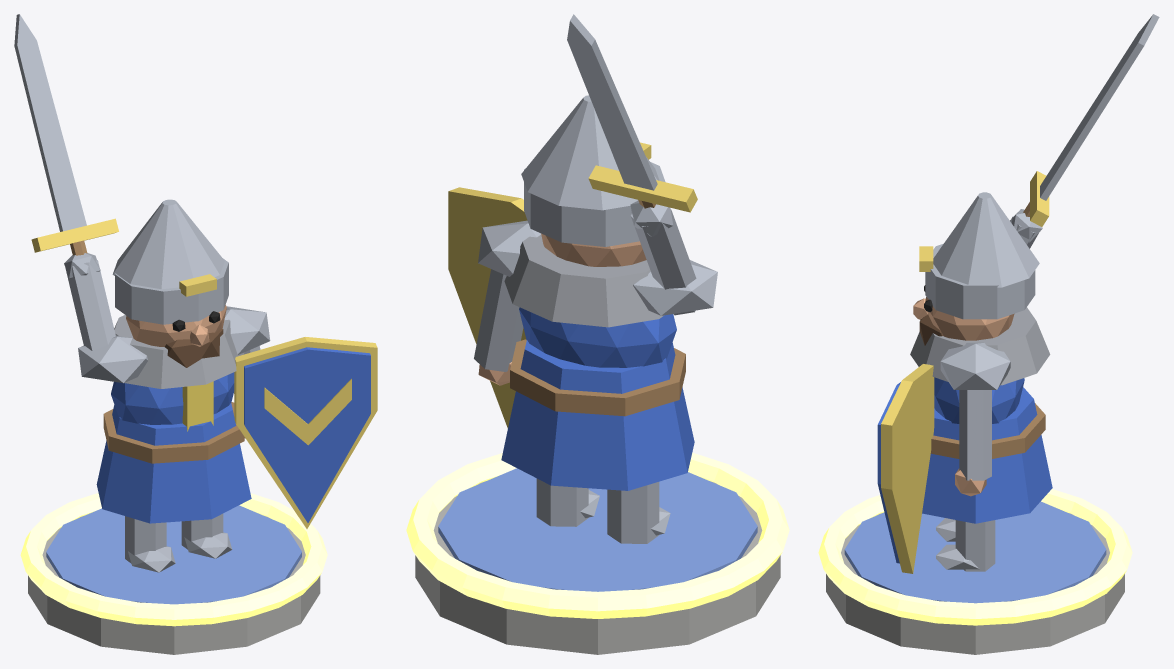
The model's file is aldric.glb.
3 views of the same model, side by side, from view 1: azimuth 30°, elevation 25°; view 2: azimuth 150°, elevation 25°; view 3: azimuth 270°, elevation 25° (orthographic). The views are drawn at different scales.
Parts seen in each view (by area): view 1: Cylinder.380, Slab.018, Cone.072, Torus.030, Cylinder.379, Cone.074, Slab.020, Slab.017, Cylinder.386, Cone.073, Icosphere.282, Cylinder.383 (+14 smaller); view 2: Cylinder.380, Cone.072, Torus.030, Cylinder.379, Cone.073, Cone.074, Slab.017, Icosphere.282, Slab.020, Cylinder.383, Cylinder.386, Cylinder.385 (+8 smaller); view 3: Cylinder.380, Torus.030, Cylinder.379, Cone.072, Slab.017, Cone.074, Cone.073, Cylinder.386, Cylinder.385, Slab.020, Icosphere.290, Icosphere.282 (+8 smaller).
Part boxes in pixels (x1,y1,x2,y2): Cylinder.380: [46, 505, 301, 604]; Slab.018: [244, 347, 370, 522]; Cone.072: [96, 403, 251, 523]; Torus.030: [20, 493, 327, 626]; Cylinder.379: [28, 516, 320, 654]; Cone.074: [112, 199, 224, 289]; Slab.020: [14, 14, 86, 231]; Slab.017: [234, 337, 377, 528]; Cylinder.386: [115, 258, 228, 324]; Cone.073: [114, 315, 244, 388]; Icosphere.282: [111, 372, 234, 424]; Cylinder.383: [103, 402, 244, 463]; Cylinder.380: [438, 468, 757, 591]; Cone.072: [501, 340, 694, 490]; Torus.030: [406, 452, 789, 618]; Cylinder.379: [415, 481, 780, 654]; Cone.073: [504, 234, 663, 327]; Cone.074: [521, 95, 659, 210]; Slab.017: [448, 187, 527, 428]; Icosphere.282: [519, 307, 676, 367]; Slab.020: [567, 14, 657, 190]; Cylinder.383: [510, 339, 685, 416]; Cylinder.386: [524, 162, 665, 246]; Cylinder.385: [474, 269, 523, 371]; Cylinder.380: [844, 501, 1106, 603]; Torus.030: [818, 489, 1132, 625]; Cylinder.379: [826, 513, 1124, 654]; Cone.072: [922, 387, 1052, 523]; Slab.017: [881, 364, 934, 573]; Cone.074: [933, 192, 1039, 287]; Cone.073: [910, 307, 1050, 385]; Cylinder.386: [925, 243, 1035, 319]; Cylinder.385: [959, 390, 991, 480]; Slab.020: [1040, 14, 1159, 200]; Icosphere.290: [940, 342, 1010, 389]; Icosphere.282: [934, 377, 1024, 423].
Bounding box in the file's own units: 1.85 × 3.21 × 1.82.
